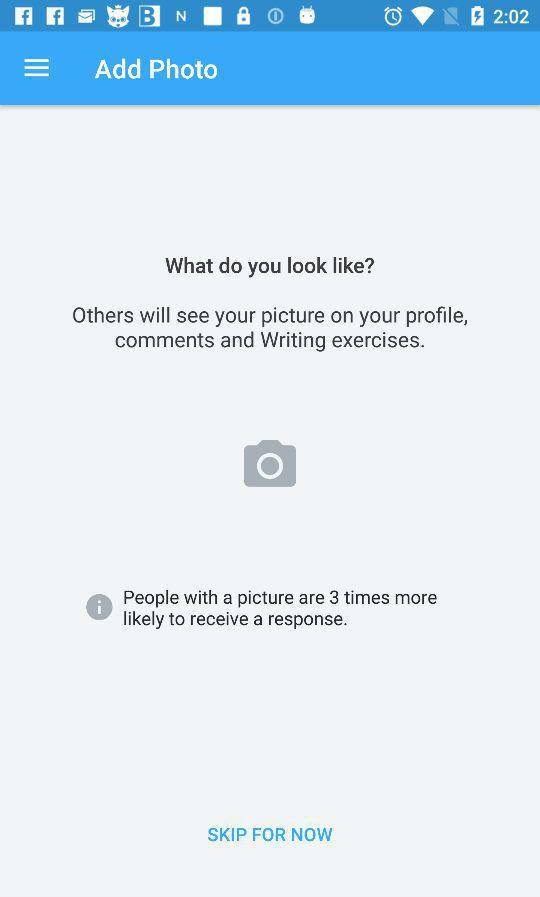Icon: (244, 440, 297, 488), (86, 594, 114, 621), (25, 59, 51, 78)
Text: (73, 306, 468, 353), (125, 590, 438, 630), (165, 256, 375, 279), (95, 59, 218, 81), (208, 827, 333, 842)
Toolbar: (1, 33, 540, 106)
UpperTaskBar: (1, 1, 540, 33)
